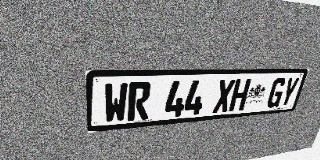4: (164, 81, 188, 118), (183, 80, 207, 116)
G: (265, 78, 288, 108)
H: (228, 79, 251, 112)
R: (127, 82, 151, 121)
W: (104, 82, 128, 123)
X: (212, 79, 236, 113)
Y: (278, 77, 300, 107)
